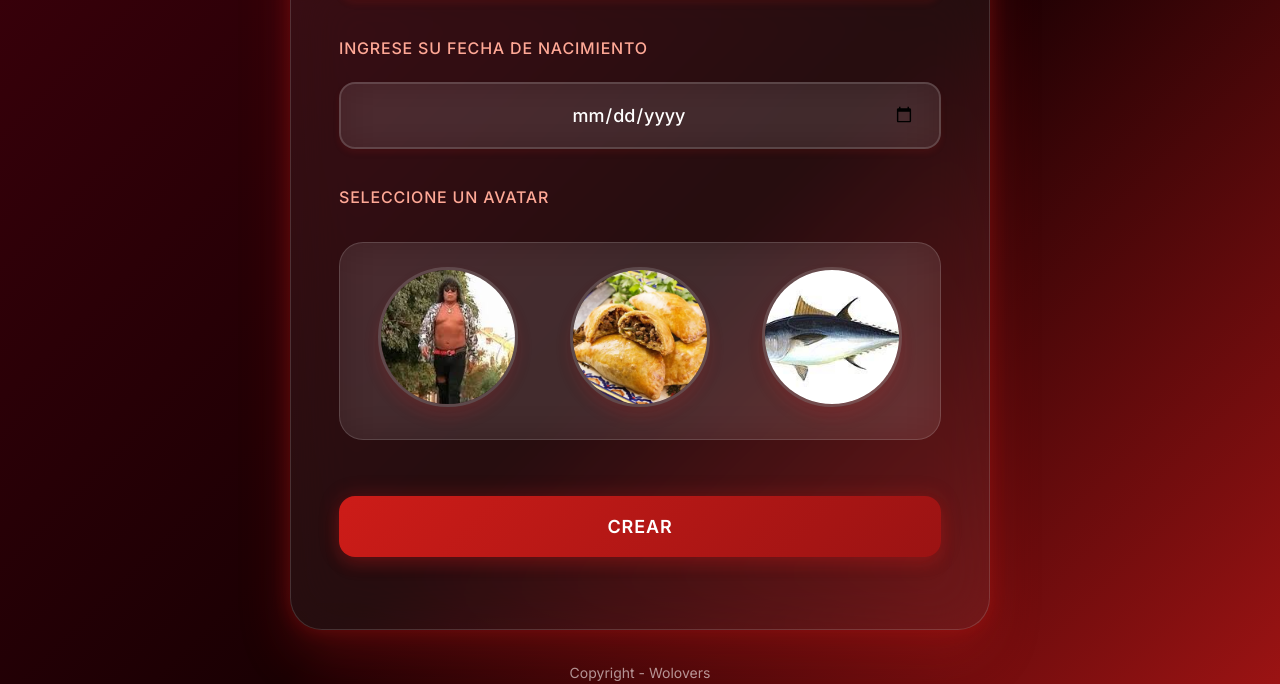
CrearJugadorContainer Integration Tests › valida que el nombre sea obligatorio
(page scrolled)
Click the button "Crear" at (640, 526), box [339,496,941,557]
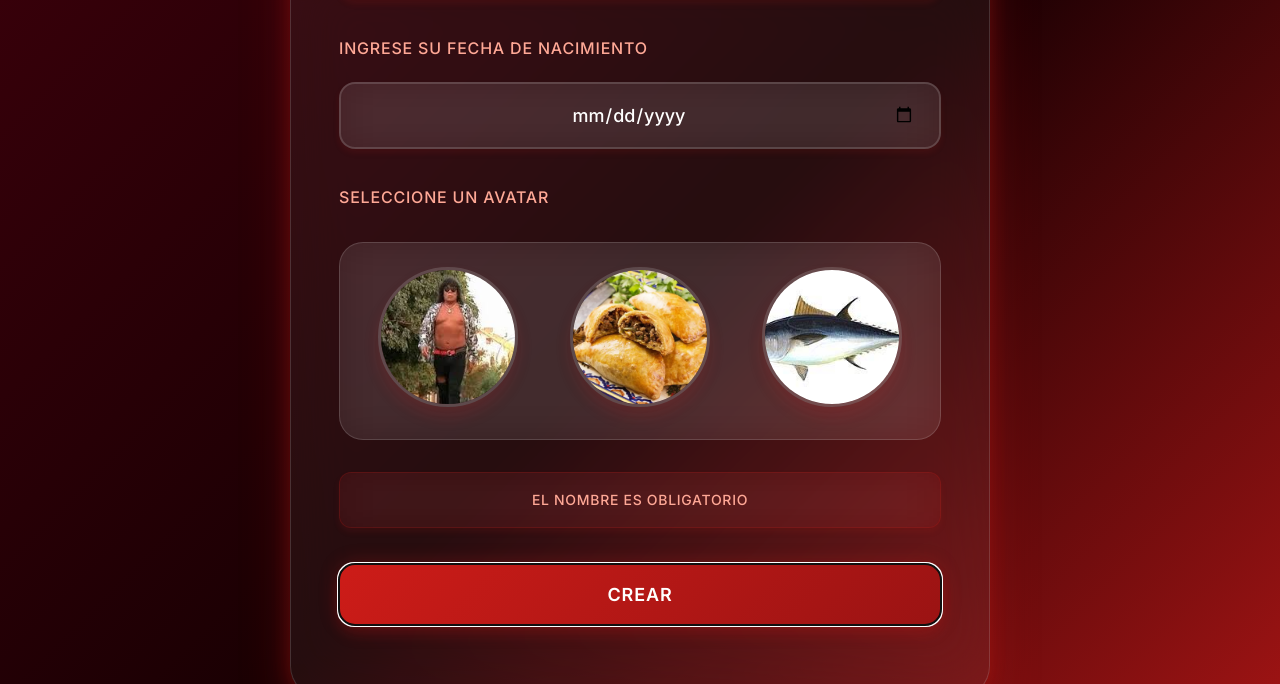
Result: the text "El nombre es obligatorio" is shown at [339,472,941,528]
